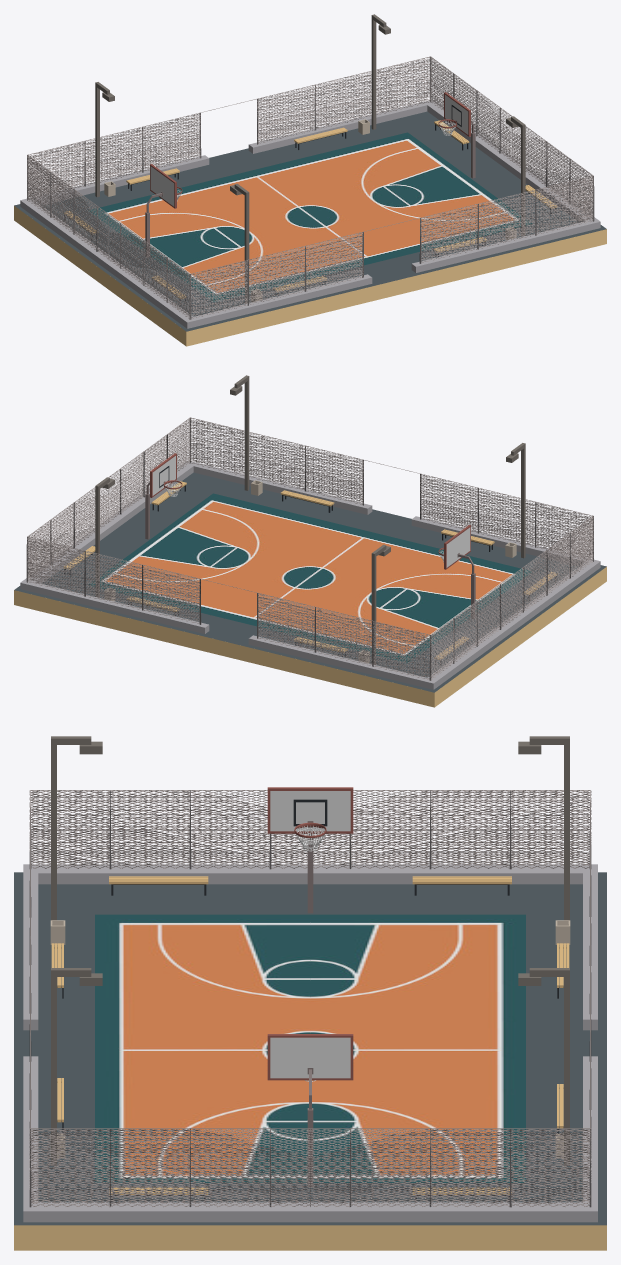
File: Basketball_Court -3D.glb
3 views of the same model, one above another, from view 1: azimuth 30°, elevation 25°; view 2: azimuth 150°, elevation 25°; view 3: azimuth 270°, elevation 25° (orthographic). The views are drawn at different scales.
Visible parts, largest first — view 1: Base, Court, Light Pillars, Basketball_Stand, Mesh_Bars, Benches, Dust_Bin; view 2: Base, Court, Light Pillars, Basketball_Stand, Mesh_Bars, Benches, Dust_Bin; view 3: Base, Court, Basketball_Stand, Light Pillars, Benches, Mesh_Bars, Dust_Bin.
Boxes of the visible parts, bbox=[...] form: Base: bbox=[14, 57, 606, 346]; Court: bbox=[88, 132, 532, 301]; Light Pillars: bbox=[95, 14, 525, 303]; Basketball_Stand: bbox=[145, 92, 475, 257]; Mesh_Bars: bbox=[27, 56, 593, 296]; Benches: bbox=[63, 120, 557, 305]; Dust_Bin: bbox=[104, 119, 516, 302]; Base: bbox=[14, 418, 606, 707]; Court: bbox=[88, 493, 531, 662]; Light Pillars: bbox=[95, 375, 525, 664]; Basketball_Stand: bbox=[145, 453, 475, 618]; Mesh_Bars: bbox=[27, 417, 593, 657]; Benches: bbox=[63, 481, 557, 665]; Dust_Bin: bbox=[104, 480, 516, 663]; Base: bbox=[14, 790, 606, 1250]; Court: bbox=[95, 914, 525, 1182]; Basketball_Stand: bbox=[267, 787, 353, 1186]; Light Pillars: bbox=[51, 736, 569, 1165]; Benches: bbox=[51, 876, 569, 1202]; Mesh_Bars: bbox=[30, 790, 590, 1168]; Dust_Bin: bbox=[50, 920, 570, 1158].
Bounding box in the file's own units: 5.79 × 1.69 × 4.11.
13 materials, 1 textured.
